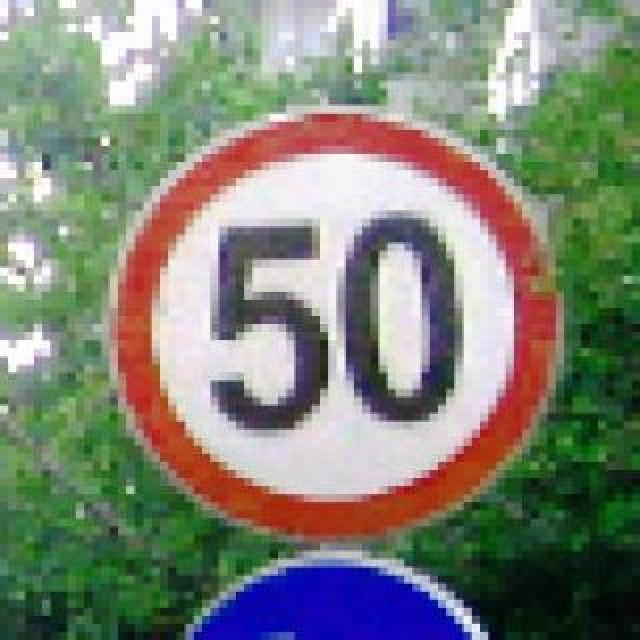50 kph: (100, 90, 556, 536)
